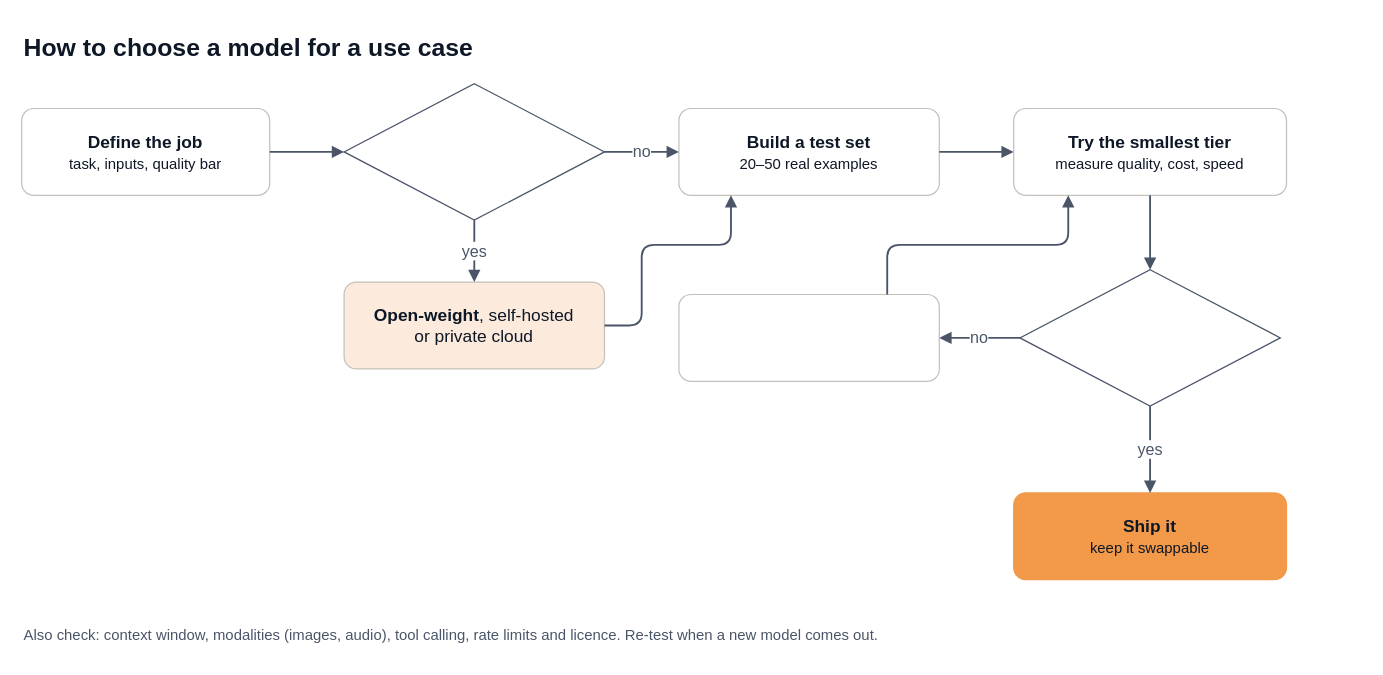
Some shapes in this 1383 by 675 pixel diagram are drawn without their labels. The shapes that lost their labels are listed below. From the top down, each one's centre as x and y in pixels, then its label:
At (x=473, y=151): "Must data stay in-house?".
At (x=808, y=337): "Step up one tier or improve the prompt".
At (x=1149, y=337): "Passes your tests?".
